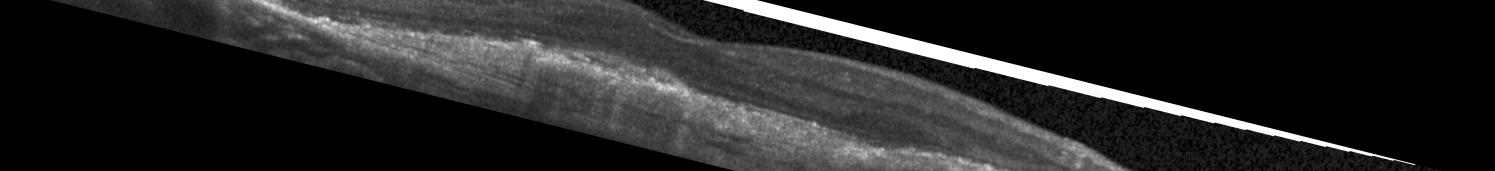subretinal_hyperreflective_material: (315, 15, 1008, 171)
